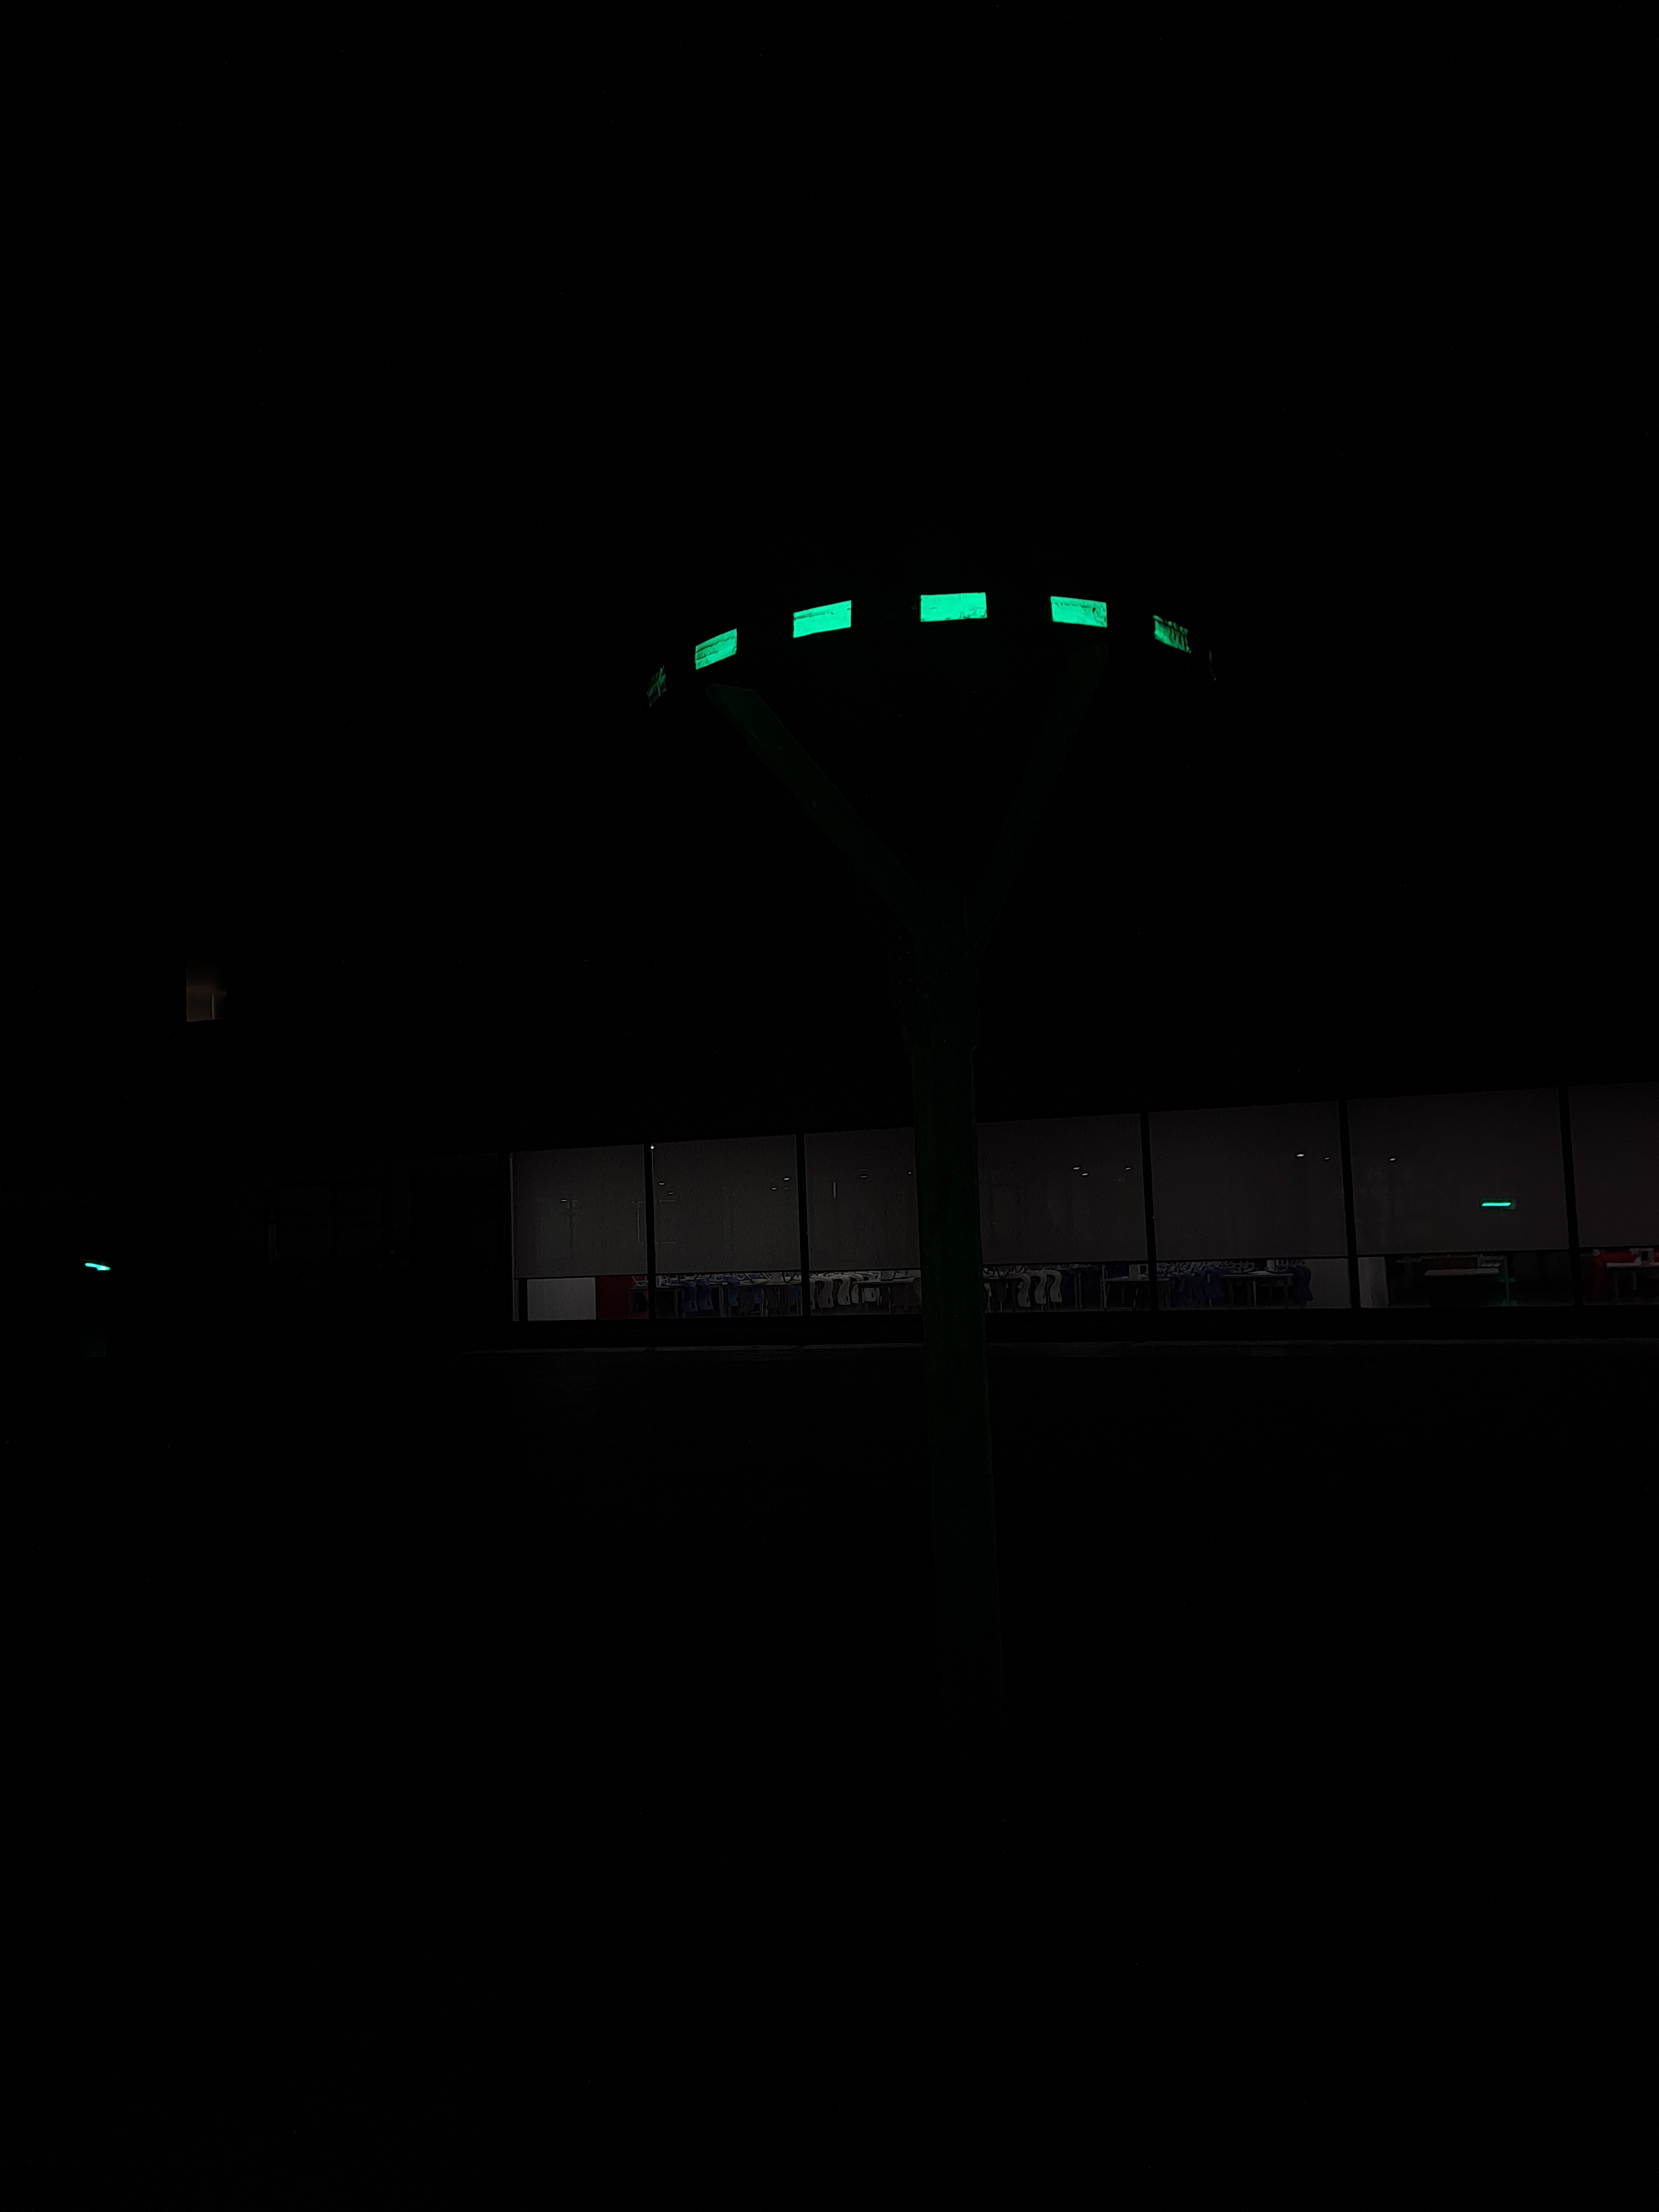hoop: (685, 589, 1199, 672)
